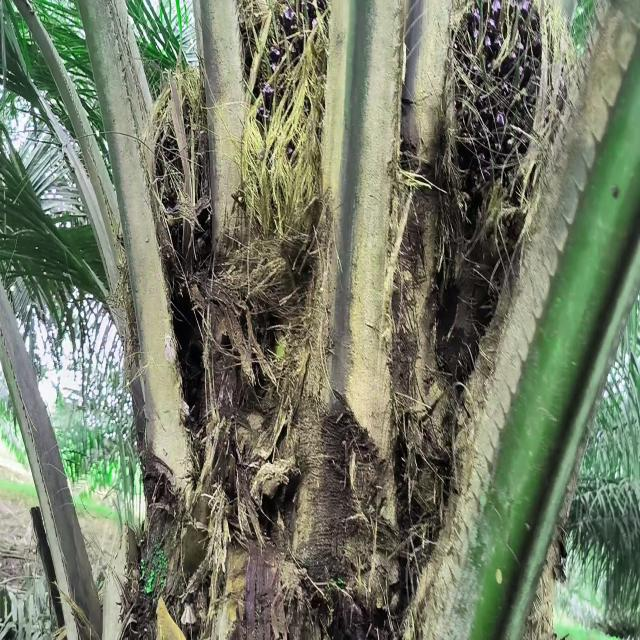palm-oil: (449, 0, 555, 262), (240, 0, 330, 215)
